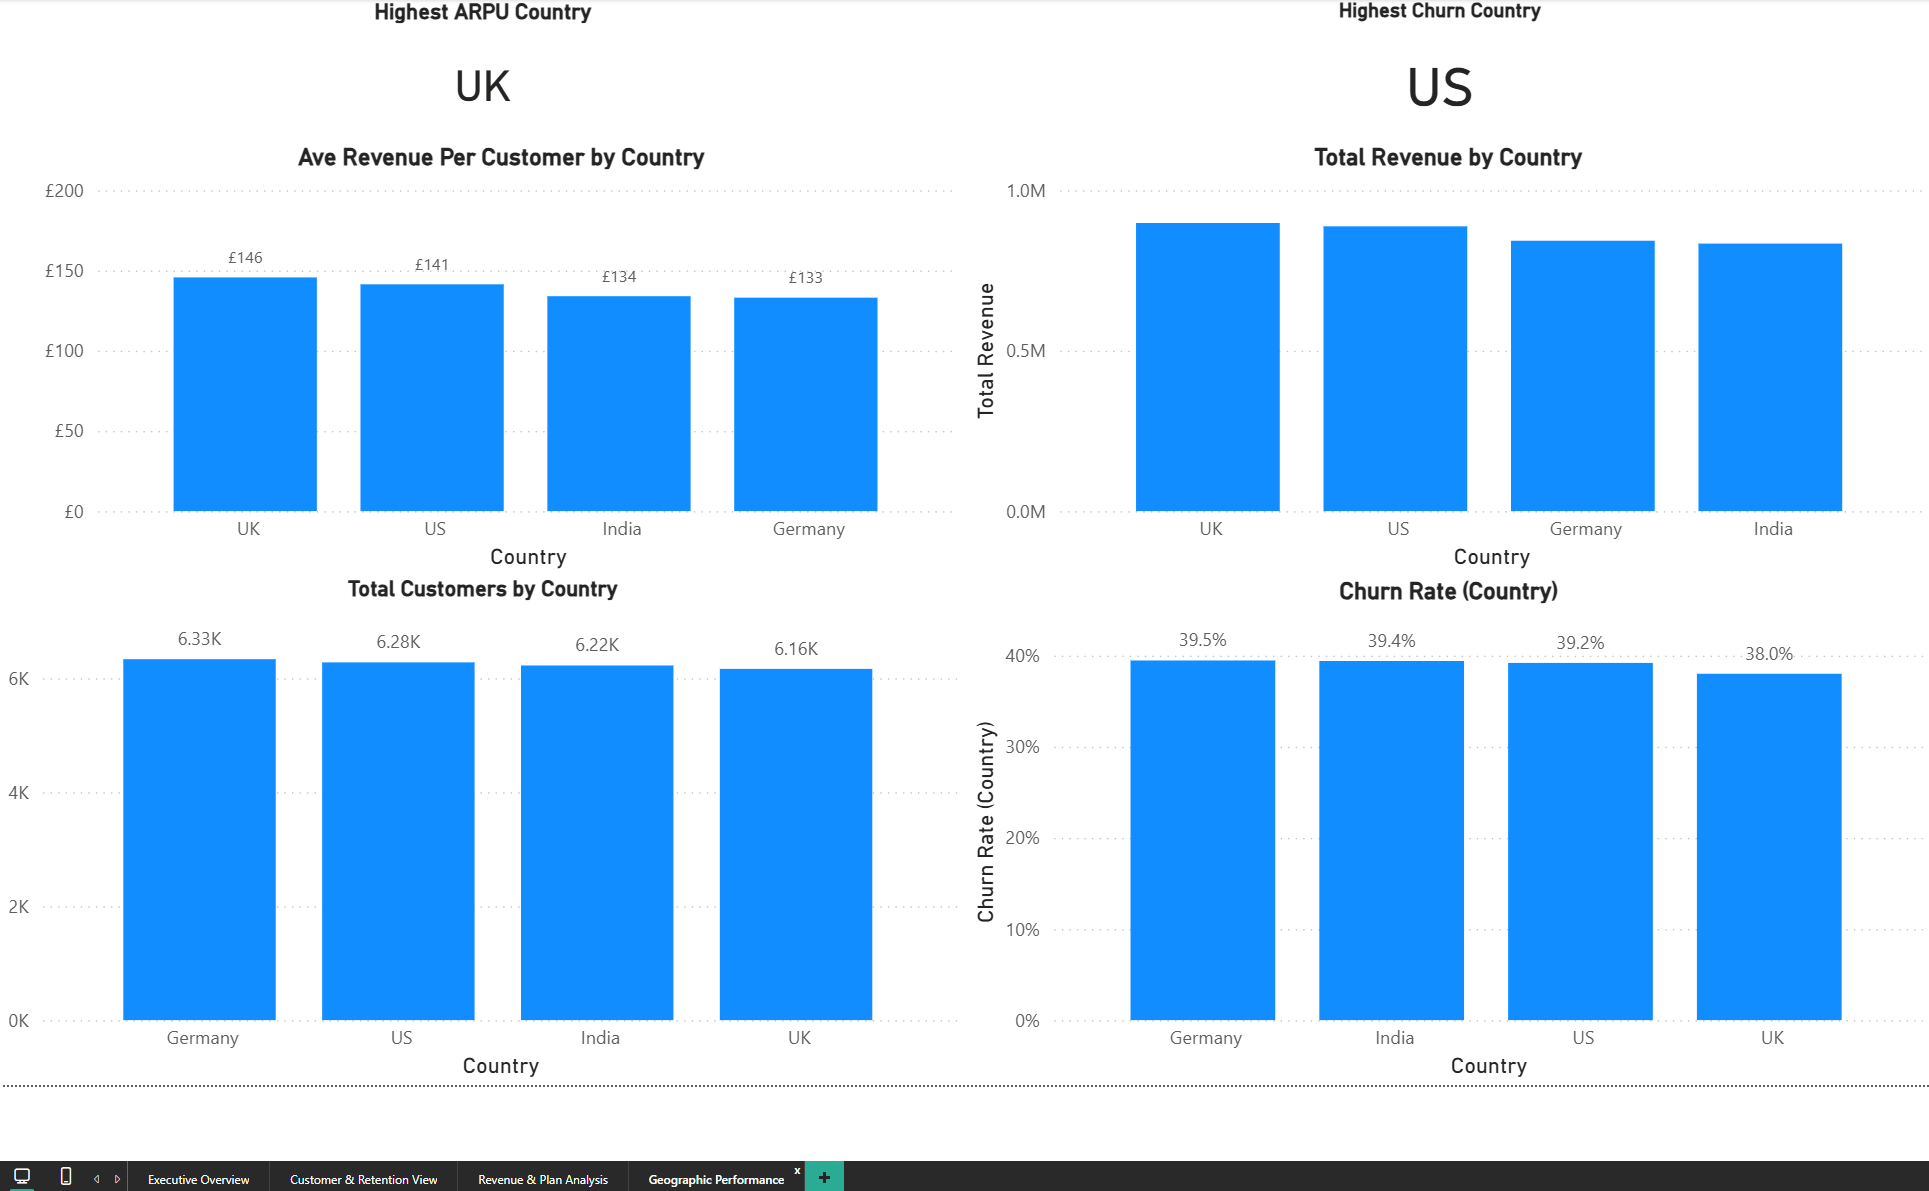

What the dashboard file says about the page in this screenshot:
{"tool":"powerbi","page":{"name":"Geographic Performance","canvas":[1280,720],"ordinal":3},"visuals":[{"type":"clusteredColumnChart","fields":{"Category":["customers.Country"],"Y":["Just Measures.Ave Revenue Per Customer"]},"box":[24.5,94.8,615.8,287.7],"z":0},{"type":"clusteredColumnChart","title":"Total Customers by Country","fields":{"Category":["customers.Country"],"Y":["CountNonNull(customers.CustomerID)"]},"box":[0,382.5,640.3,337.4],"z":1000},{"type":"clusteredColumnChart","fields":{"Category":["customers.Country"],"Y":["Just Measures.Total Revenue"]},"box":[640.3,94.8,639.7,287.7],"z":2000},{"type":"clusteredColumnChart","title":"Churn Rate (Country) ","fields":{"Y":["Just Measures.Churn Rate (Country)"],"Category":["customers.Country"]},"box":[640.3,382.5,639.7,337.4],"z":2001},{"type":"card","title":"Highest ARPU Country","fields":{"Values":["Just Measures.Top Country ARPU"]},"box":[0,0,640.3,94.8],"z":2002},{"type":"card","title":"Highest Churn Country","fields":{"Values":["Just Measures.Highest Churn Country"]},"box":[445.4,0,417.6,94.8],"z":2003}]}

Visuals, with their boxes on the page's 1280x720 design canvas (x1, y1, x2, y2). These are canvas units, not pixel positions in the 1929x1191 screenshot, which may show the page scaled, cropped or inside an application window:
clusteredColumnChart - customers.Country x Just Measures.Ave Revenue Per Customer: {"left": 24, "top": 95, "right": 640, "bottom": 382}
"Total Customers by Country" clusteredColumnChart: {"left": 0, "top": 382, "right": 640, "bottom": 720}
clusteredColumnChart - customers.Country x Just Measures.Total Revenue: {"left": 640, "top": 95, "right": 1280, "bottom": 382}
"Churn Rate (Country) " clusteredColumnChart: {"left": 640, "top": 382, "right": 1280, "bottom": 720}
"Highest ARPU Country" card: {"left": 0, "top": 0, "right": 640, "bottom": 95}
"Highest Churn Country" card: {"left": 445, "top": 0, "right": 863, "bottom": 95}
